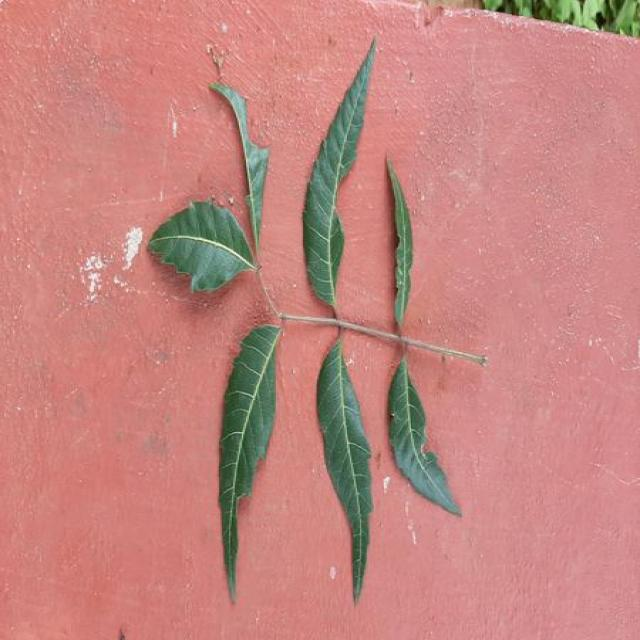neem: (148, 44, 485, 601), (218, 324, 282, 598)
